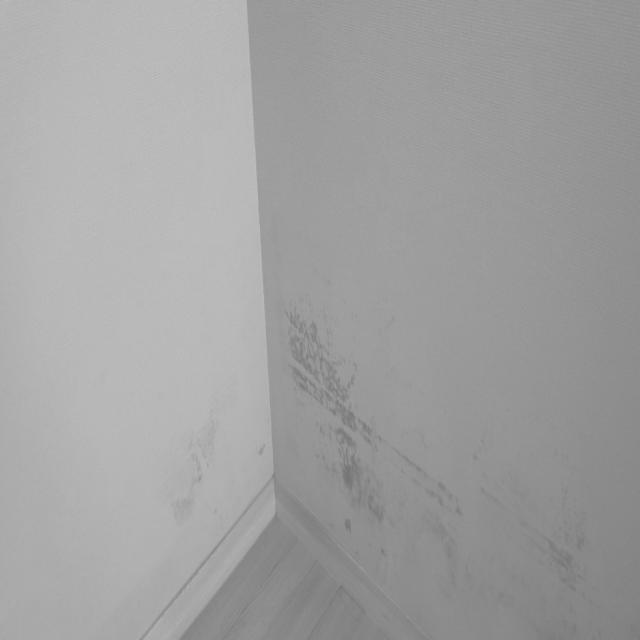stain marks: (391, 446, 592, 605), (290, 299, 383, 551), (169, 372, 235, 524)
